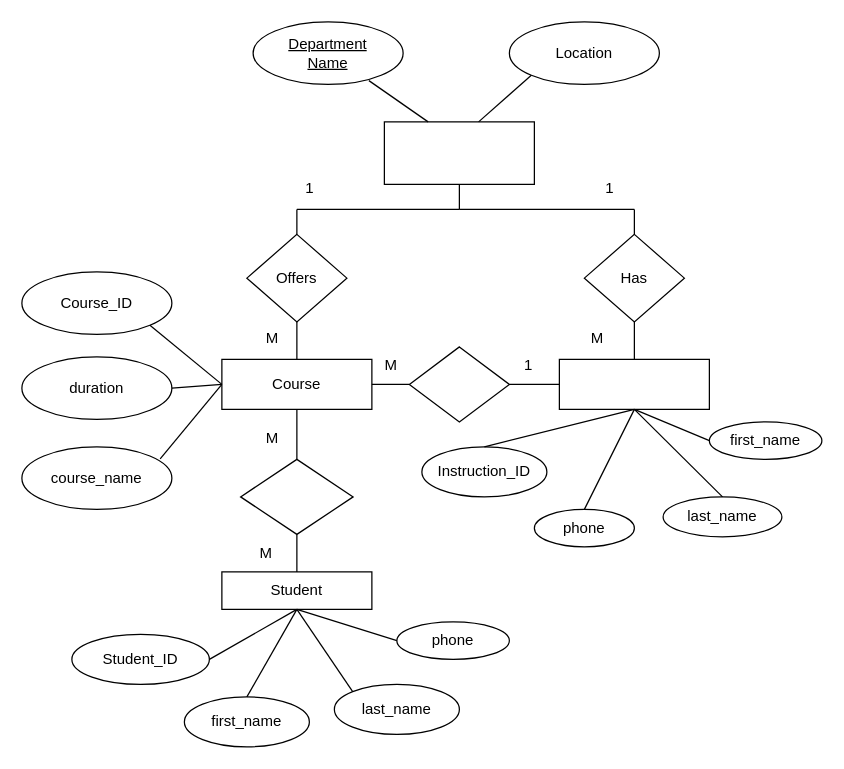
Image size: 844x769. Some labels were removed from this diagram. Each missing label, with the box of its shape:
Department: (383, 121, 534, 184)
Enrolled By: (239, 458, 353, 534)
Instructor: (558, 358, 709, 409)
is thaught by: (408, 346, 509, 422)
